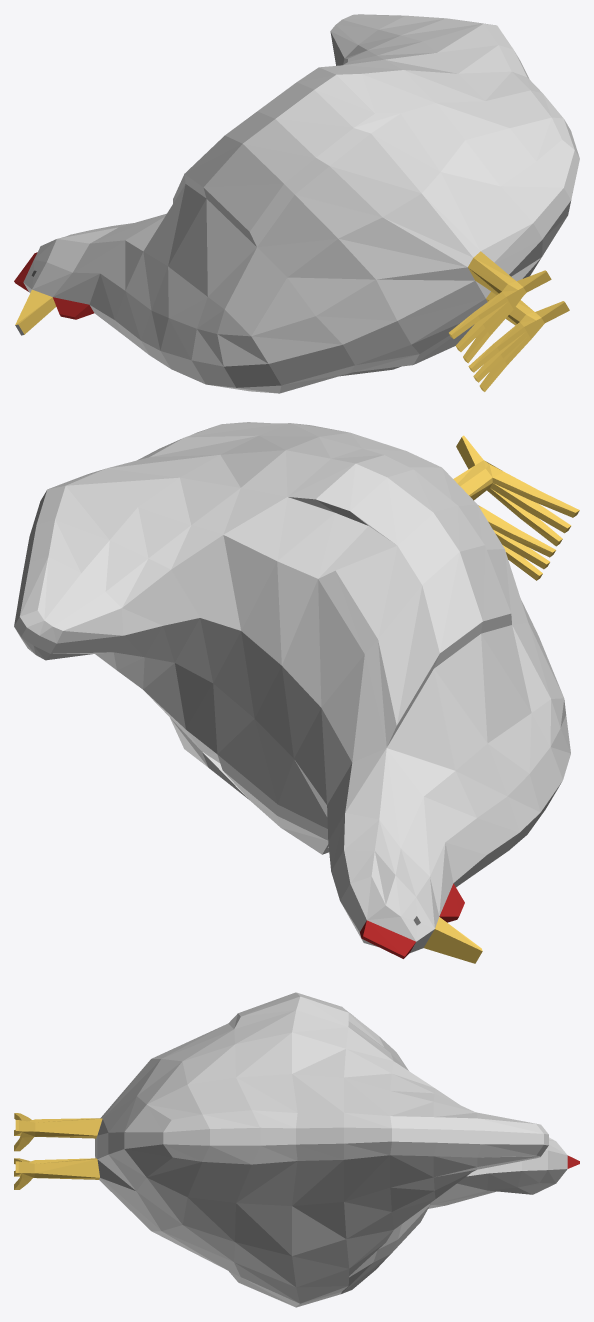
File: chicken.glb
3 renders of one model, top to bottom at view 1: azimuth 30°, elevation 25°; view 2: azimuth 150°, elevation 25°; view 3: azimuth 270°, elevation 25°, orthographic. The views are drawn at different scales.
Parts seen in each view (by area): view 1: imagetostl_mesh0; view 2: imagetostl_mesh0; view 3: imagetostl_mesh0.
Boxes of the visible parts, x1,y1,x2,y2 form: imagetostl_mesh0: [14, 14, 579, 393]; imagetostl_mesh0: [14, 422, 579, 963]; imagetostl_mesh0: [14, 992, 579, 1307].
Size of the model in its own units: 0.3314 by 0.2264 by 0.4005.
